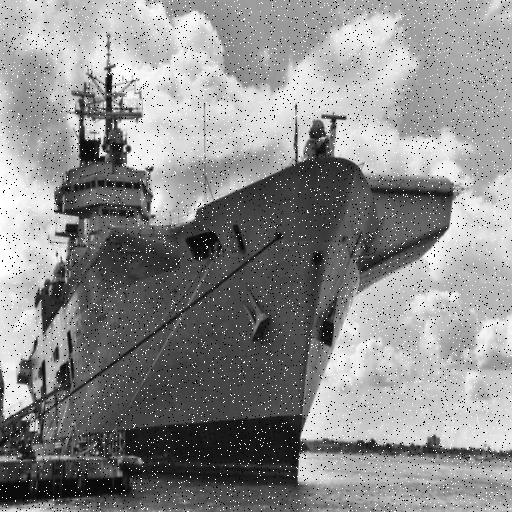Portanaves: (15, 15, 469, 487)
